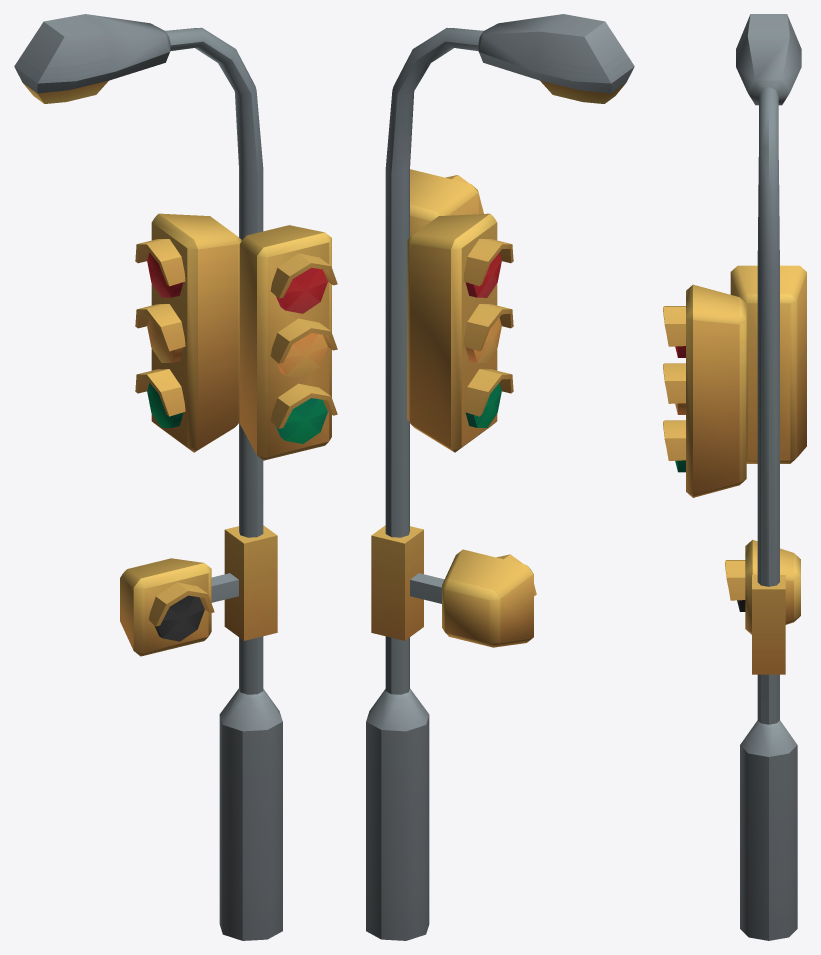
The model's file is traffic-light.glb.
The picture shows the model from 3 angles, left to right: view 1: azimuth 30°, elevation 25°; view 2: azimuth 150°, elevation 25°; view 3: azimuth 270°, elevation 25°; orthographic projection. The views are drawn at different scales.
Parts seen in each view (by area): view 1: trafficlight_B; view 2: trafficlight_B; view 3: trafficlight_B.
Part boxes in pixels (x1,y1,x2,y2): trafficlight_B: (14, 14, 337, 940); trafficlight_B: (366, 14, 634, 940); trafficlight_B: (663, 14, 806, 940).
Bounding box in the file's own units: 0.279 × 0.9599 × 0.1506.
Materials: 1 (1 with a texture image).
